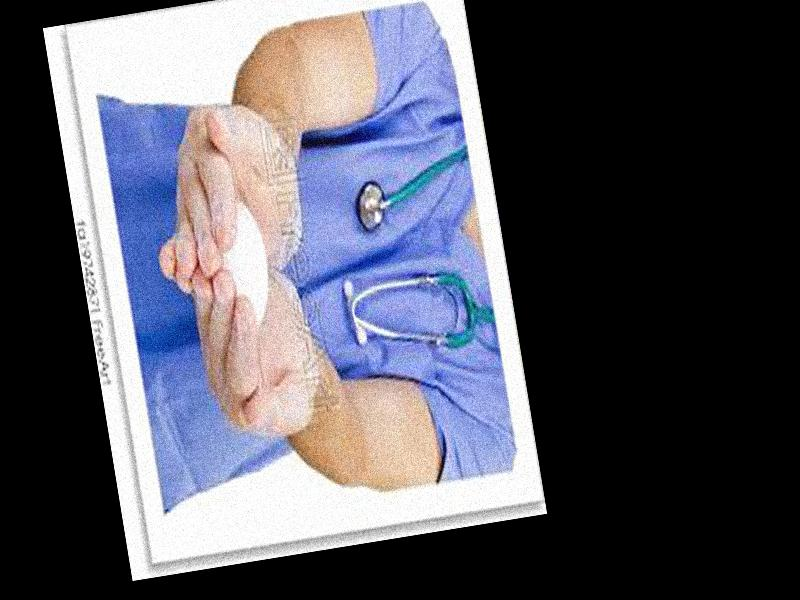Eggs: (210, 202, 277, 330)
